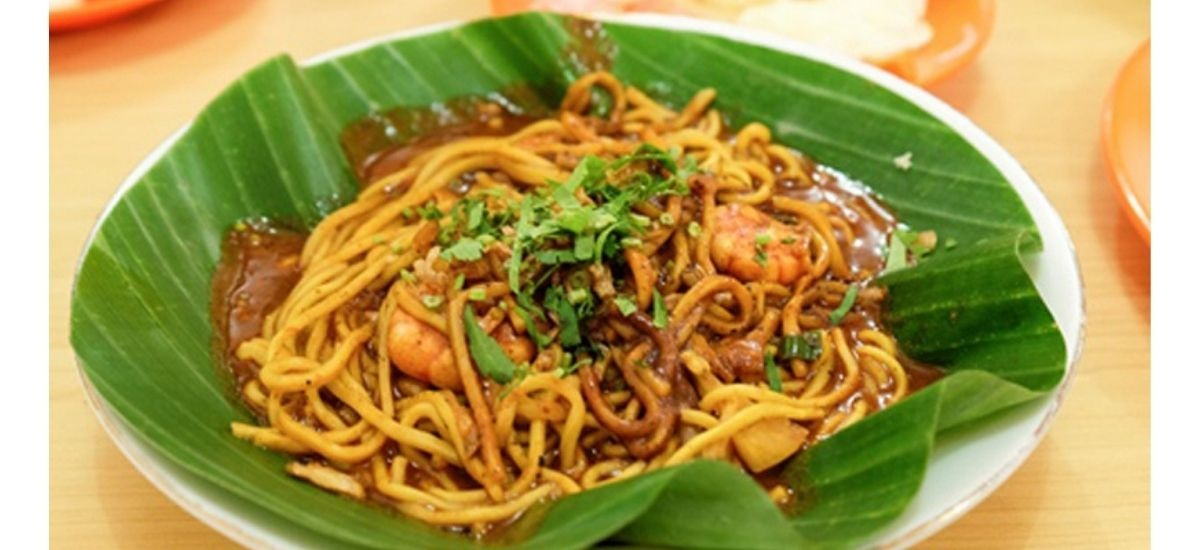mie_aceh: (229, 73, 909, 526)
